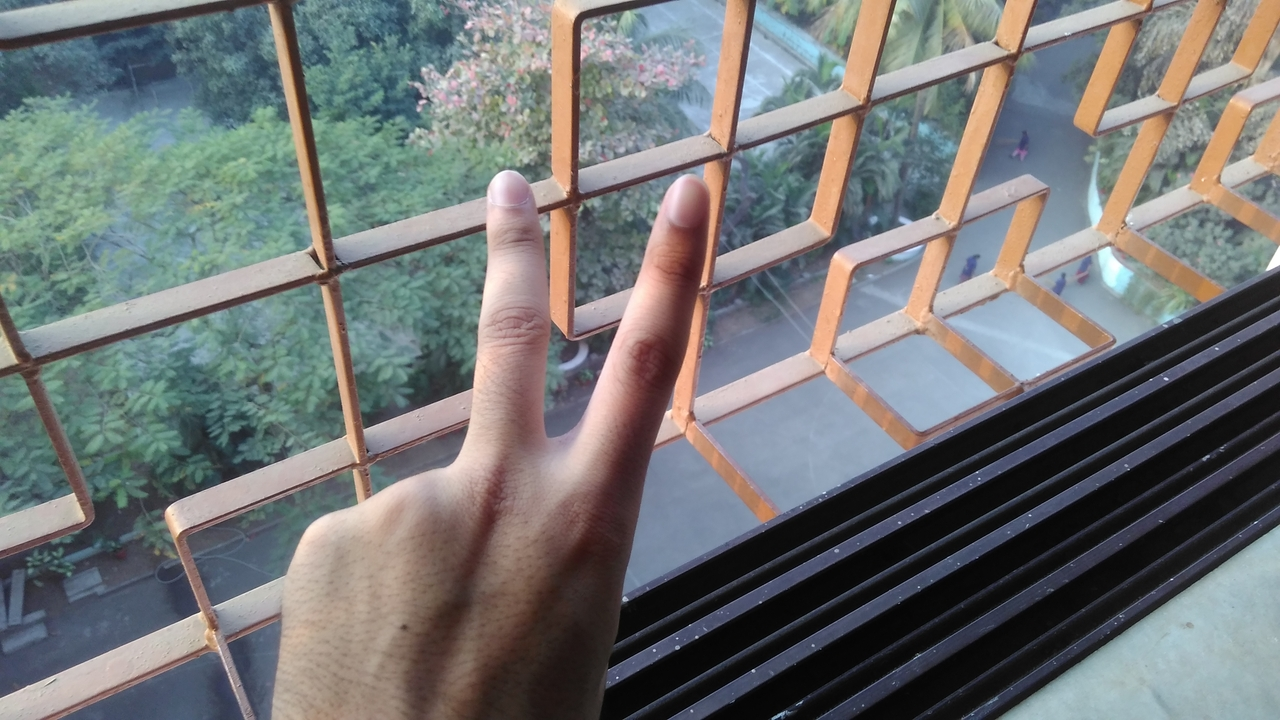fingertip: (650, 166, 712, 232), (478, 162, 532, 226)
